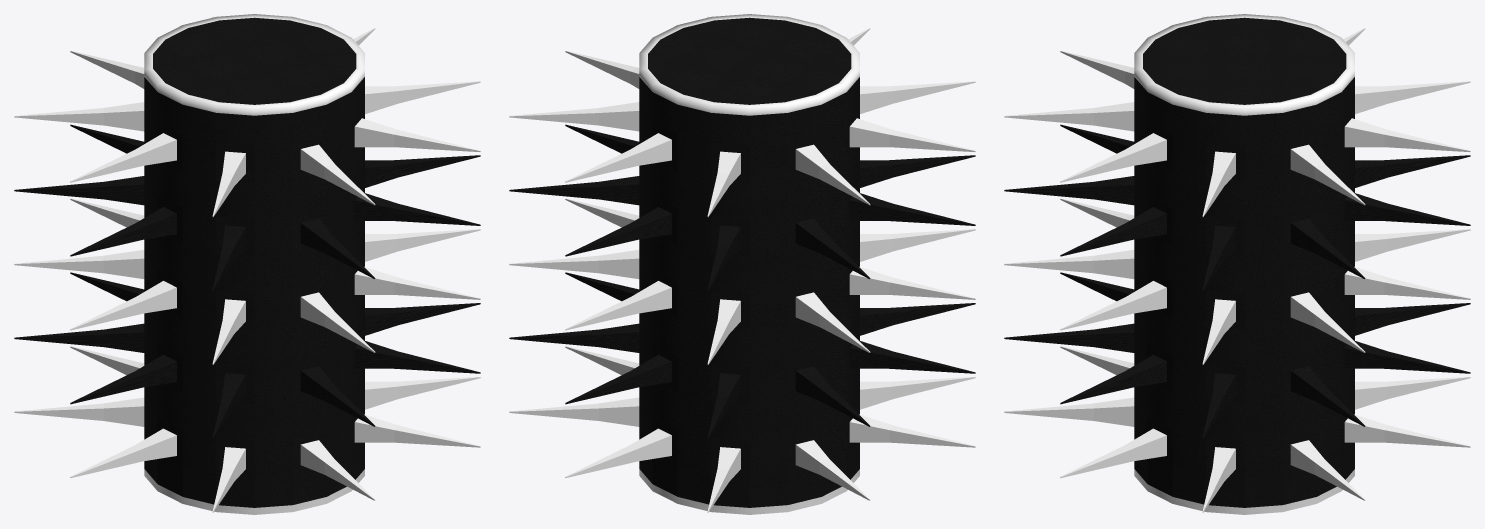
The model's file is Tank Spike.FBX.
3 views of the same model, side by side, from view 1: azimuth 30°, elevation 25°; view 2: azimuth 150°, elevation 25°; view 3: azimuth 270°, elevation 25° (orthographic).
Visible parts, largest first — view 1: Spike Tank; view 2: Spike Tank; view 3: Spike Tank.
Boxes of the visible parts, x1,y1,x2,y2 form: Spike Tank: (14,14,480,514); Spike Tank: (509,14,975,514); Spike Tank: (1004,14,1470,514).
Size of the model in its own units: 83.18 by 78.74 by 81.92.
